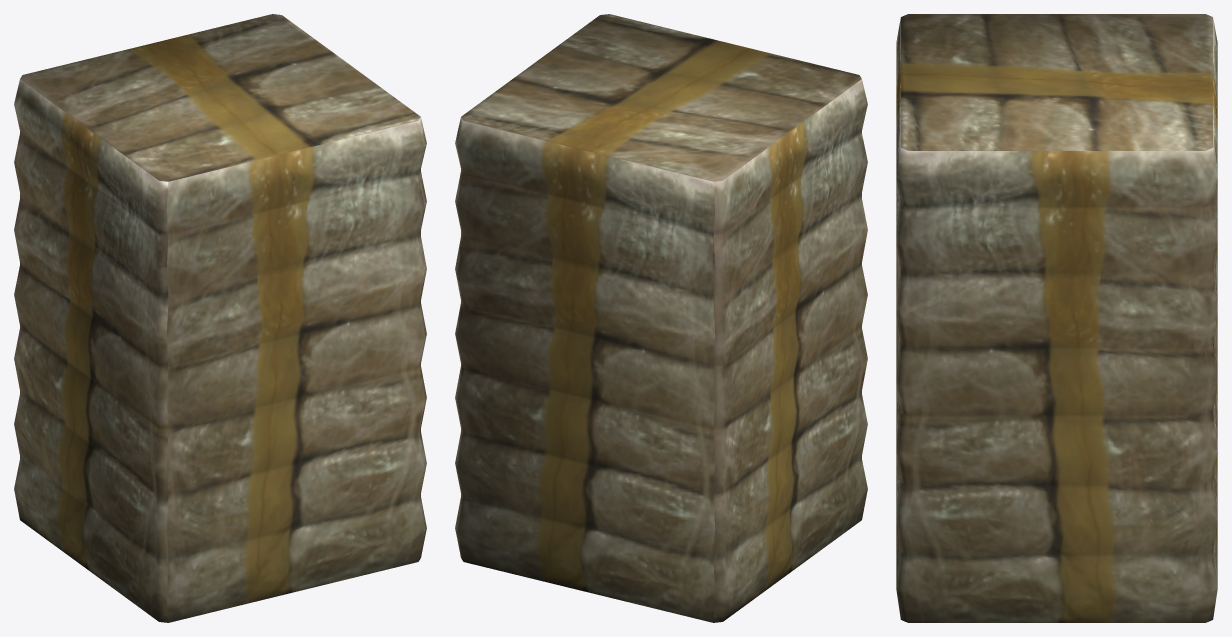
The model's file is cocaine_ton_1.FBX.
3 renders of one model, left to right at view 1: azimuth 30°, elevation 25°; view 2: azimuth 150°, elevation 25°; view 3: azimuth 270°, elevation 25°, orthographic. The views are drawn at different scales.
Visible parts, largest first — view 1: cocaine_ton_1; view 2: cocaine_ton_1; view 3: cocaine_ton_1.
Boxes of the visible parts, box(x1,y1,x2,y2) form: cocaine_ton_1: box(14, 14, 426, 622); cocaine_ton_1: box(455, 14, 867, 622); cocaine_ton_1: box(896, 14, 1217, 622).
Size of the model in its own units: 46.64 by 72.92 by 44.98.
